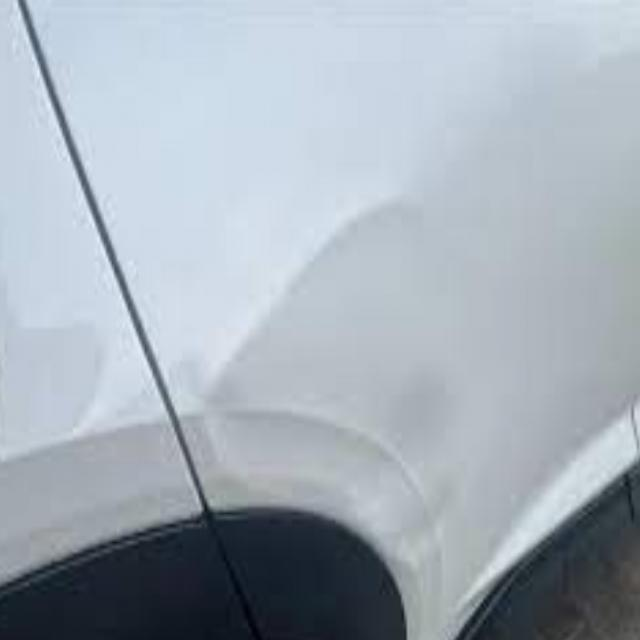dents: (180, 248, 512, 502)
